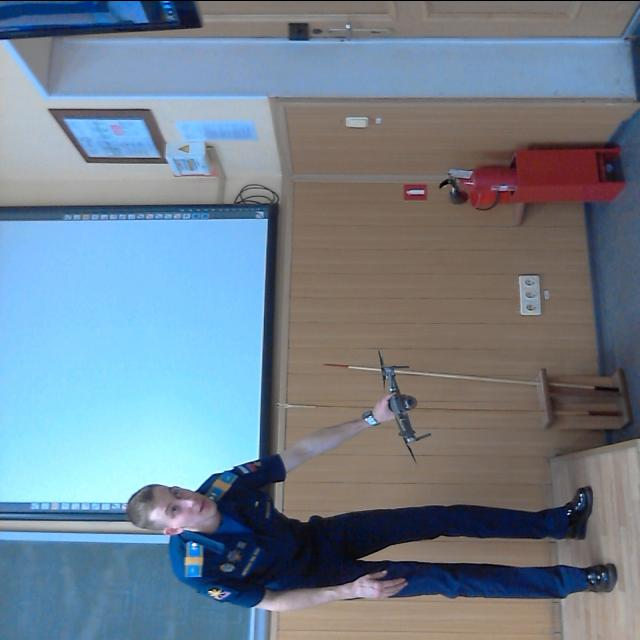drone: (369, 338, 432, 460)
